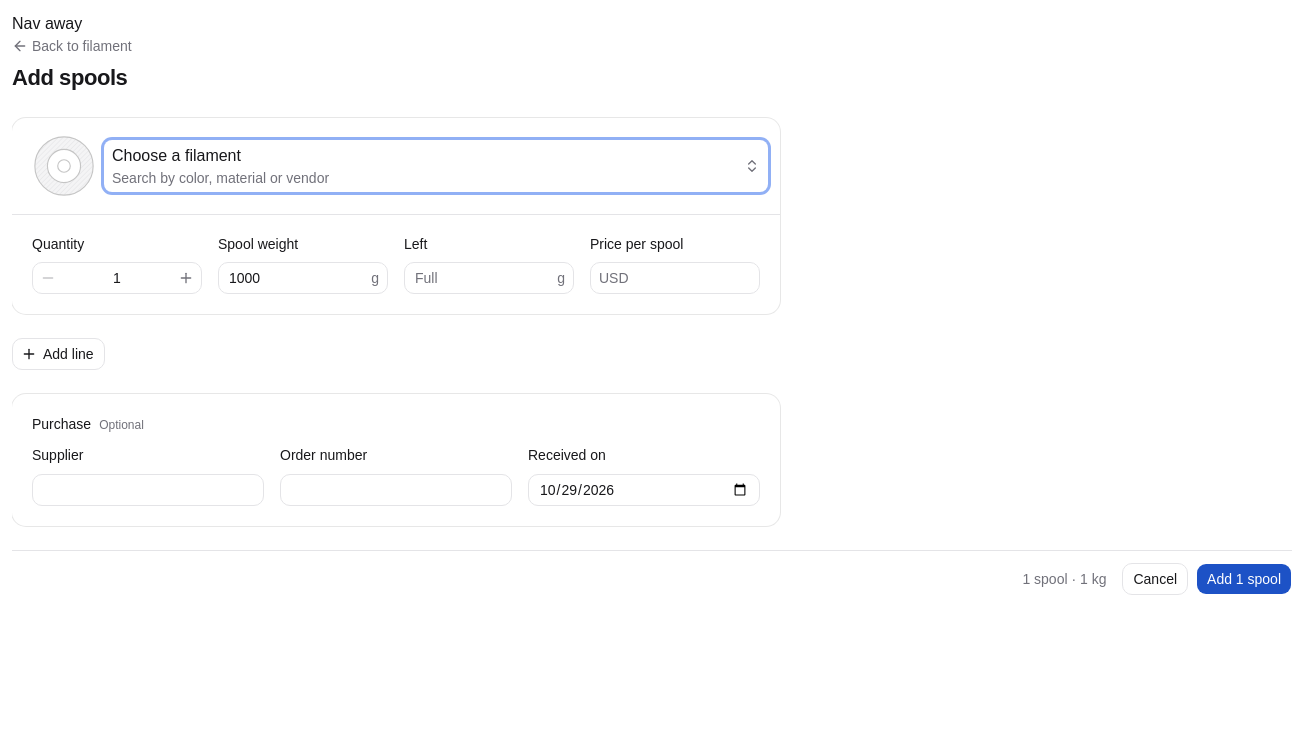
Test: SpoolFormPage › shows a required-field error when submitted without a color
Click the button "Add 1 spool".
click(1244, 578)  # box x1=1196 y1=562 x2=1292 y2=594
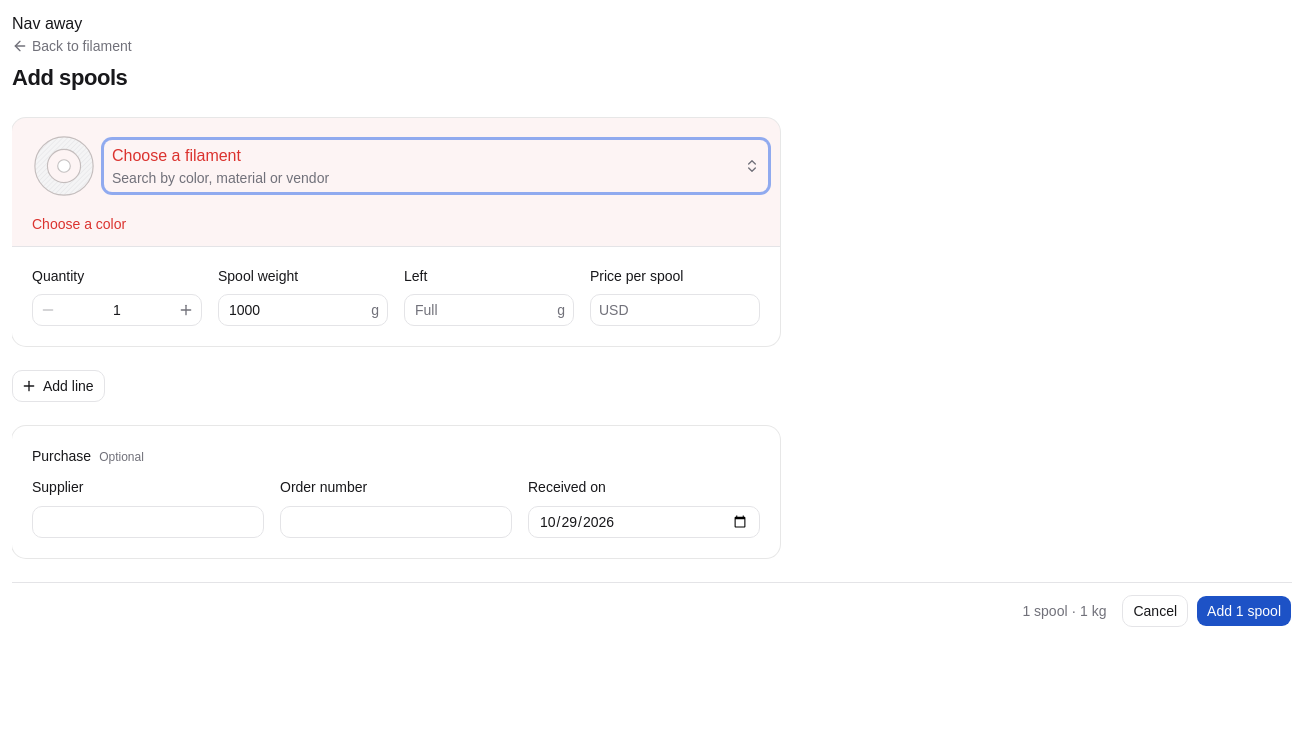
Expected: the text "Choose a color" is shown, x1=32 y1=216 x2=126 y2=232
